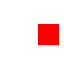square: (38, 24, 58, 44)
